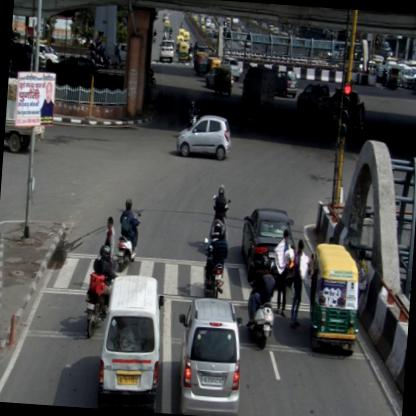car: (96, 274, 166, 412), (171, 296, 246, 415), (238, 208, 300, 288), (178, 114, 233, 160), (296, 84, 332, 118), (274, 70, 298, 100), (204, 66, 223, 90), (399, 66, 415, 92), (159, 39, 176, 63)
motorcycle: (245, 257, 281, 353), (84, 244, 115, 342), (115, 199, 142, 270), (202, 224, 228, 296), (208, 185, 233, 252)
